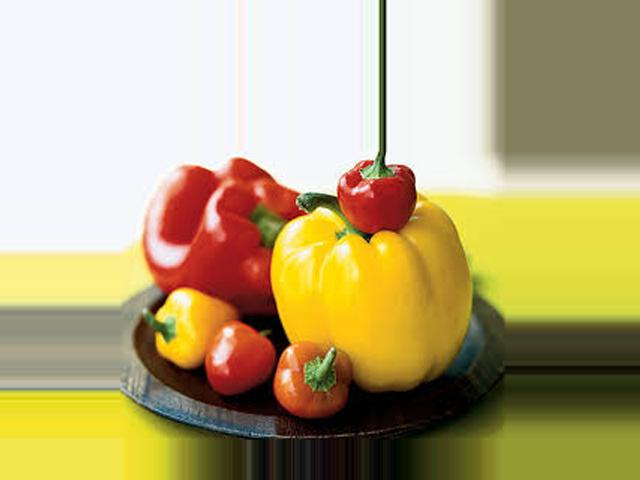bell_pepper: (144, 285, 227, 363)
